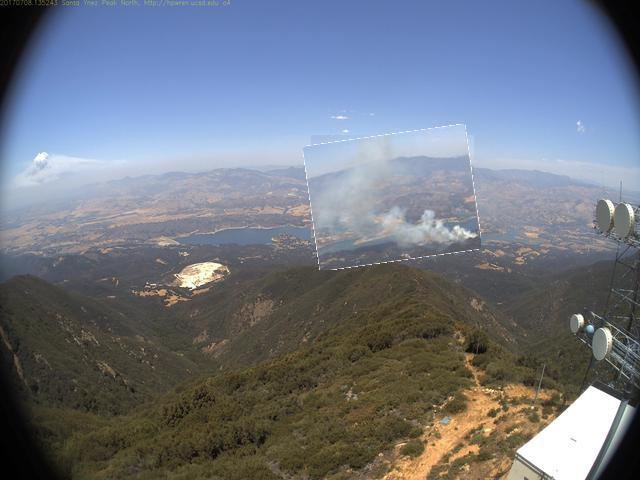smoke: (308, 131, 480, 267)
